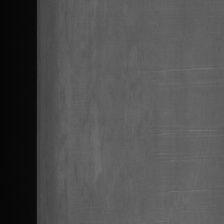waist_folding: (142, 21, 213, 209)
